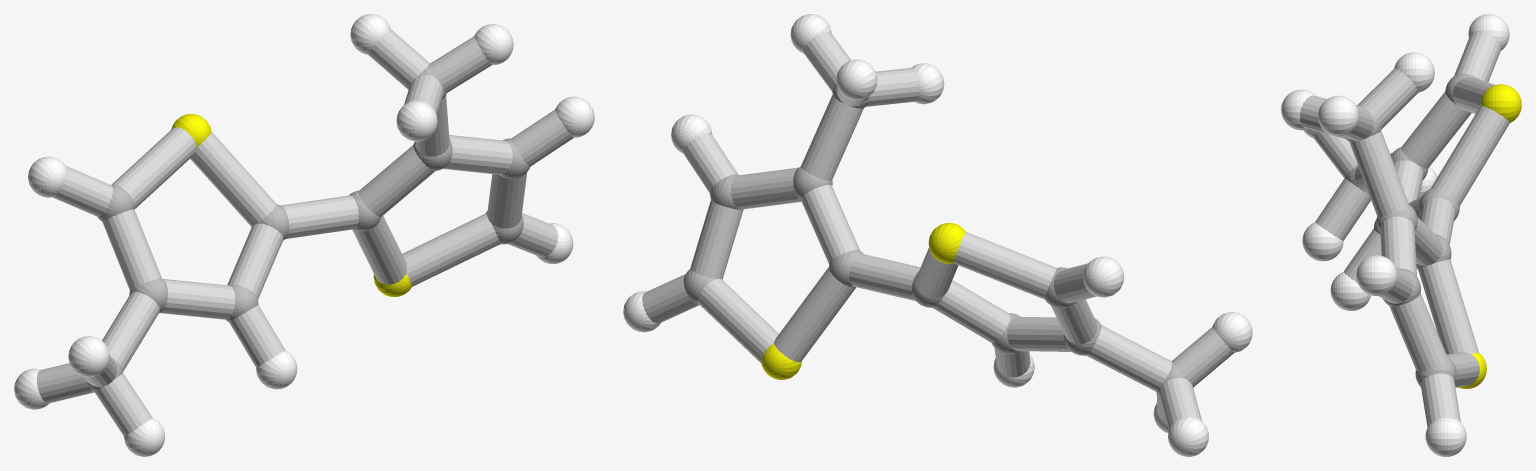
Rendered from Methylthiophene_Phi_5_Theta_60_Methylthiophene.glb.
3 renders of one model, left to right at view 1: azimuth 30°, elevation 25°; view 2: azimuth 150°, elevation 25°; view 3: azimuth 270°, elevation 25°, orthographic.
Visible parts, largest first — view 1: grp7965, grp3621, grp1, grp7241; view 2: grp7965, grp3621, grp1, grp7241; view 3: grp7965, grp3621, grp1, grp7241.
Part boxes in pixels (box(x1,y1,x2,y2)): grp7965: box(36, 29, 573, 436); grp3621: box(14, 14, 594, 456); grp1: box(87, 65, 529, 391); grp7241: box(171, 114, 411, 297); grp7965: box(642, 31, 1234, 429); grp3621: box(623, 14, 1252, 456); grp1: box(683, 83, 1193, 396); grp7241: box(761, 223, 965, 379); grp7965: box(1300, 32, 1509, 427); grp3621: box(1281, 14, 1509, 456); grp1: box(1344, 73, 1479, 386); grp7241: box(1458, 84, 1521, 388).
Bounding box in the file's own units: 9.51 × 5.43 × 3.51.
